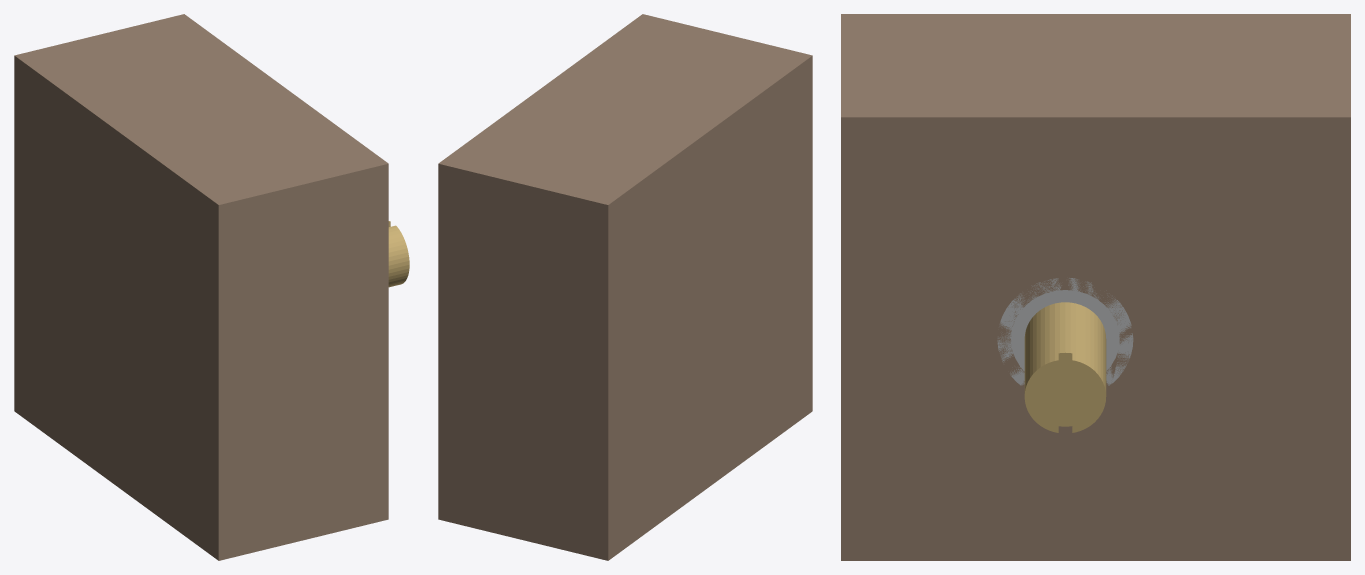
Rendered from axis-l.glb.
The picture shows the model from 3 angles, left to right: view 1: azimuth 30°, elevation 25°; view 2: azimuth 150°, elevation 25°; view 3: azimuth 270°, elevation 25°; orthographic projection. The views are drawn at different scales.
Parts seen in each view (by area): view 1: Center-18, Pin-L-1; view 2: Center-18; view 3: Center-18, Pin-L-1, Axle-insert-L-1-M5x10.
Boxes of the visible parts, x1,y1,x2,y2 form: Center-18: (14, 14, 388, 560); Pin-L-1: (388, 221, 409, 287); Center-18: (438, 14, 812, 560); Center-18: (841, 14, 1350, 560); Pin-L-1: (1024, 302, 1106, 432); Axle-insert-L-1-M5x10: (997, 278, 1133, 385).
Size of the model in its own units: 0.028 by 0.036 by 0.0375.
